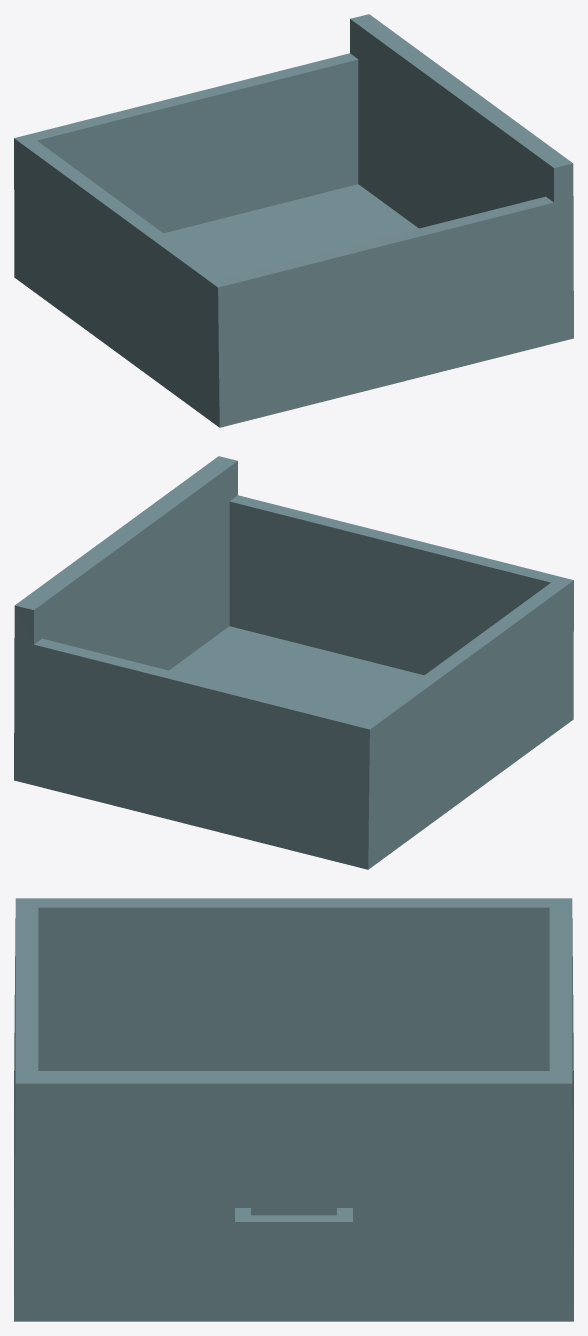
Rendered from Cabinet_Small_Part.000.fbx.
The picture shows the model from 3 angles, top to bottom: view 1: azimuth 30°, elevation 25°; view 2: azimuth 150°, elevation 25°; view 3: azimuth 270°, elevation 25°; orthographic projection. The views are drawn at different scales.
Parts seen in each view (by area): view 1: Cabinet_Small_Part.000; view 2: Cabinet_Small_Part.000; view 3: Cabinet_Small_Part.000.
Boxes of the visible parts, <box> form: Cabinet_Small_Part.000: <box>14,14,573,427</box>; Cabinet_Small_Part.000: <box>14,456,573,869</box>; Cabinet_Small_Part.000: <box>14,898,573,1321</box>.
Size of the model in its own units: 52.91 by 23.85 by 50.01.
